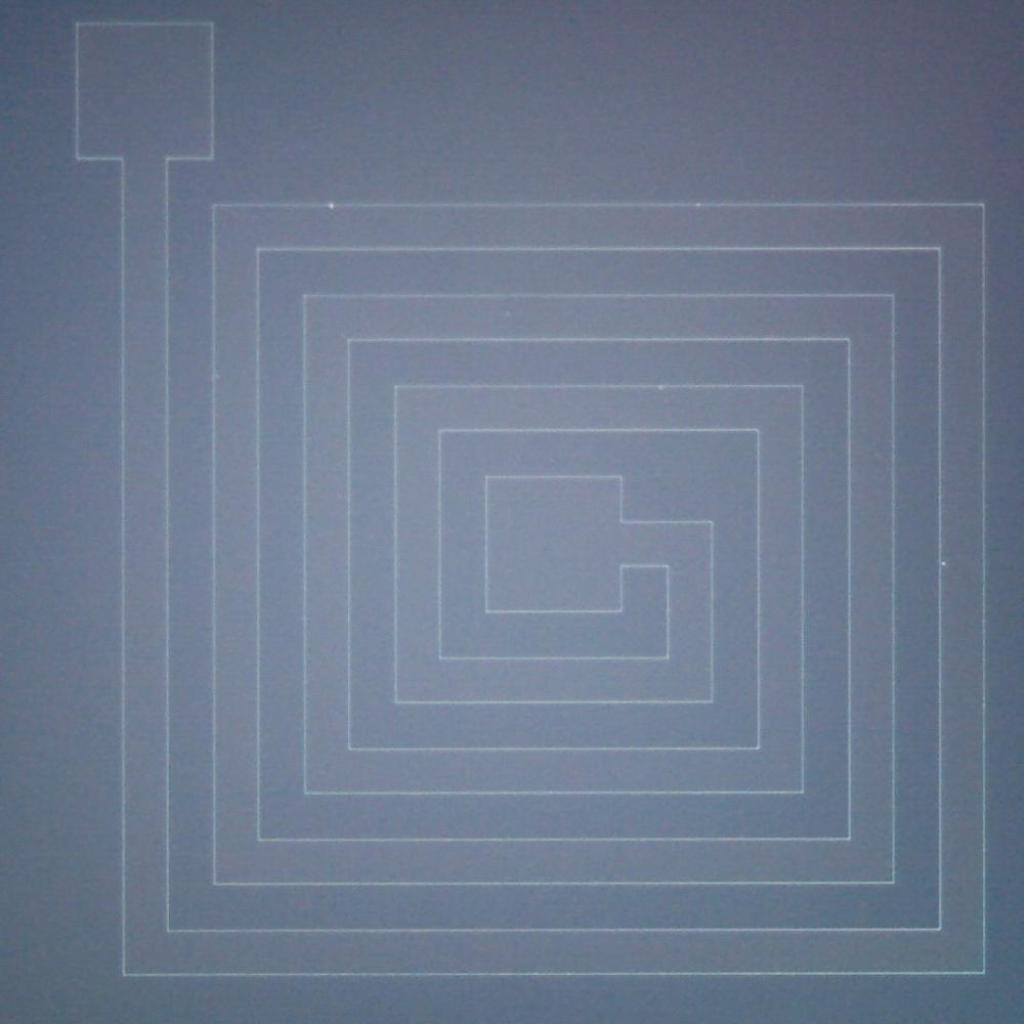dot: (942, 562, 946, 566)
